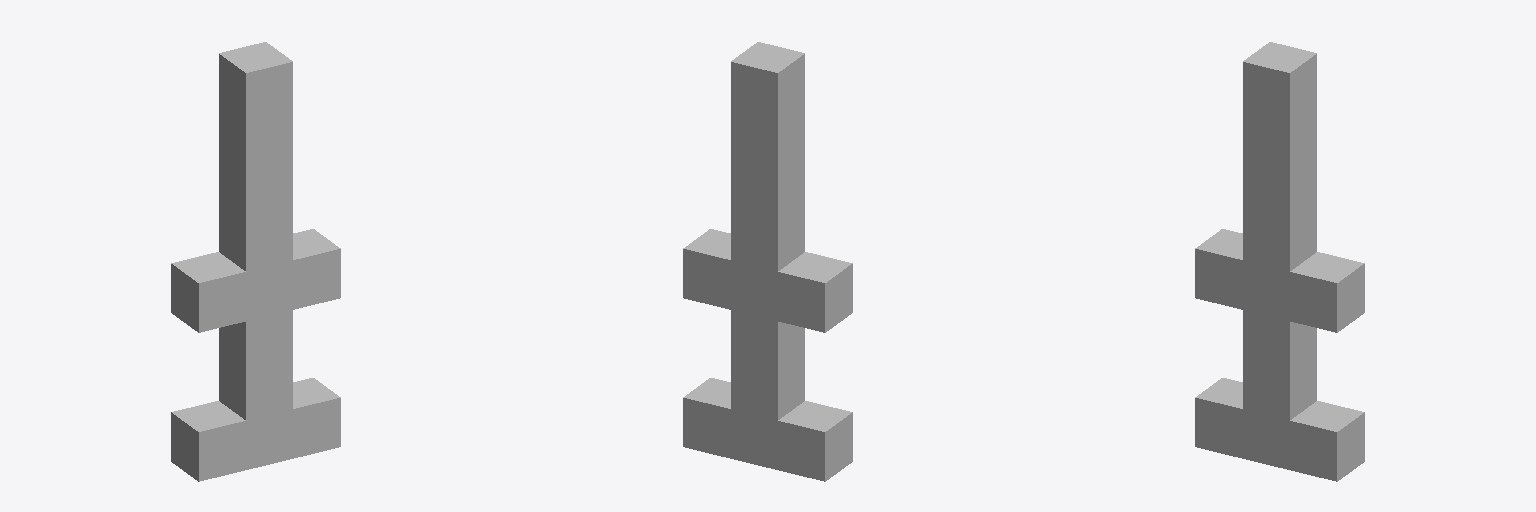
The model's file is Starter Sword.obj.
3 views of the same model, side by side, from view 1: azimuth 30°, elevation 25°; view 2: azimuth 150°, elevation 25°; view 3: azimuth 330°, elevation 25° (orthographic).
Bounding box in the file's own units: 3 × 8 × 1.